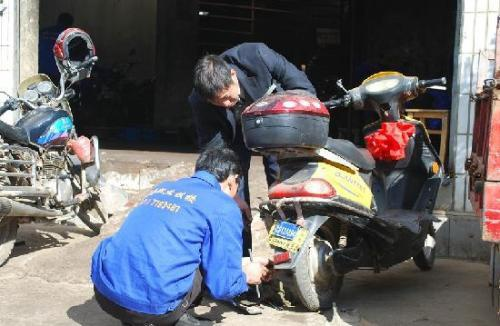non-vehicle: (242, 70, 447, 309), (1, 53, 106, 249)
